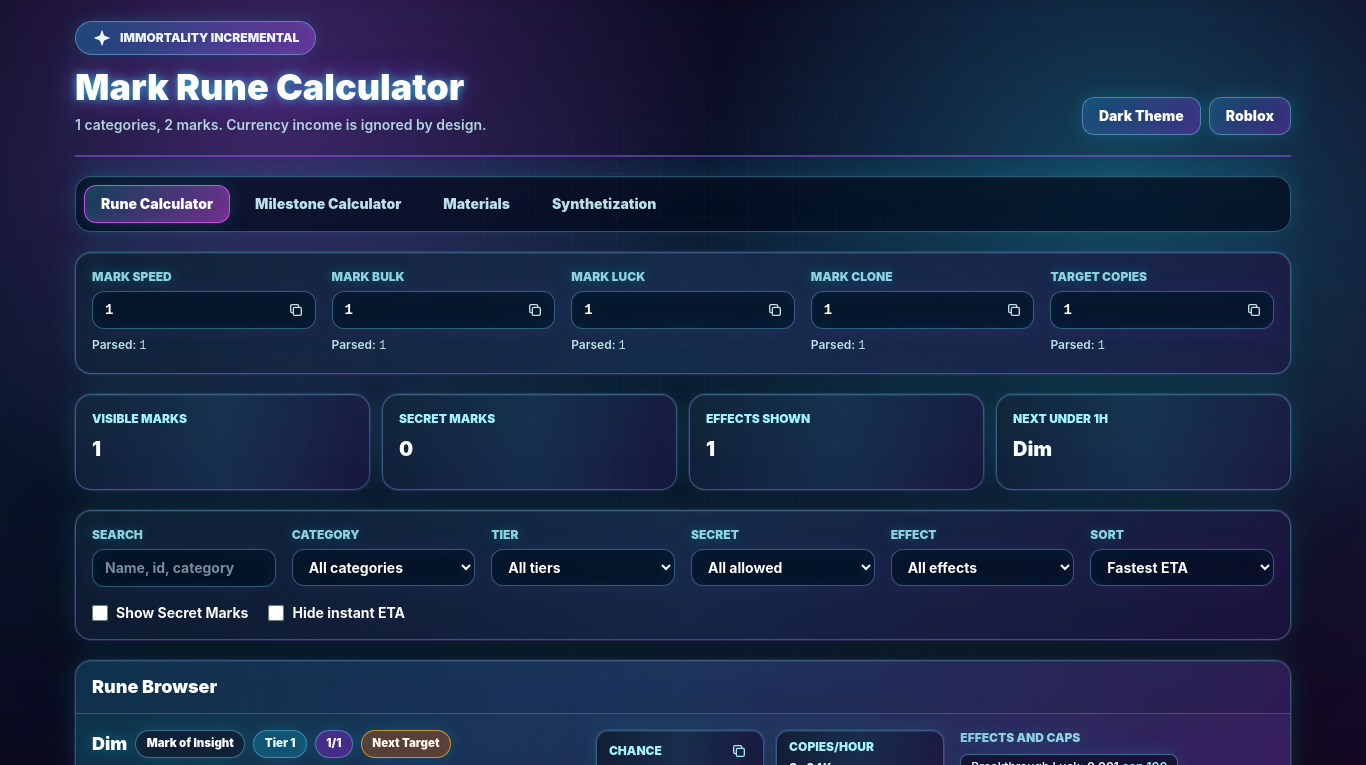
Test case: RuneCalculatorPanel › filters marks by search text
This screenshot has width=1366, height=765.
Check: the text "Dim" is shown, box [1013,437,1052,461]
Type "revenge" into the search field labelled "Search" at (184, 568), box [92,549,276,587]
(page scrolled)
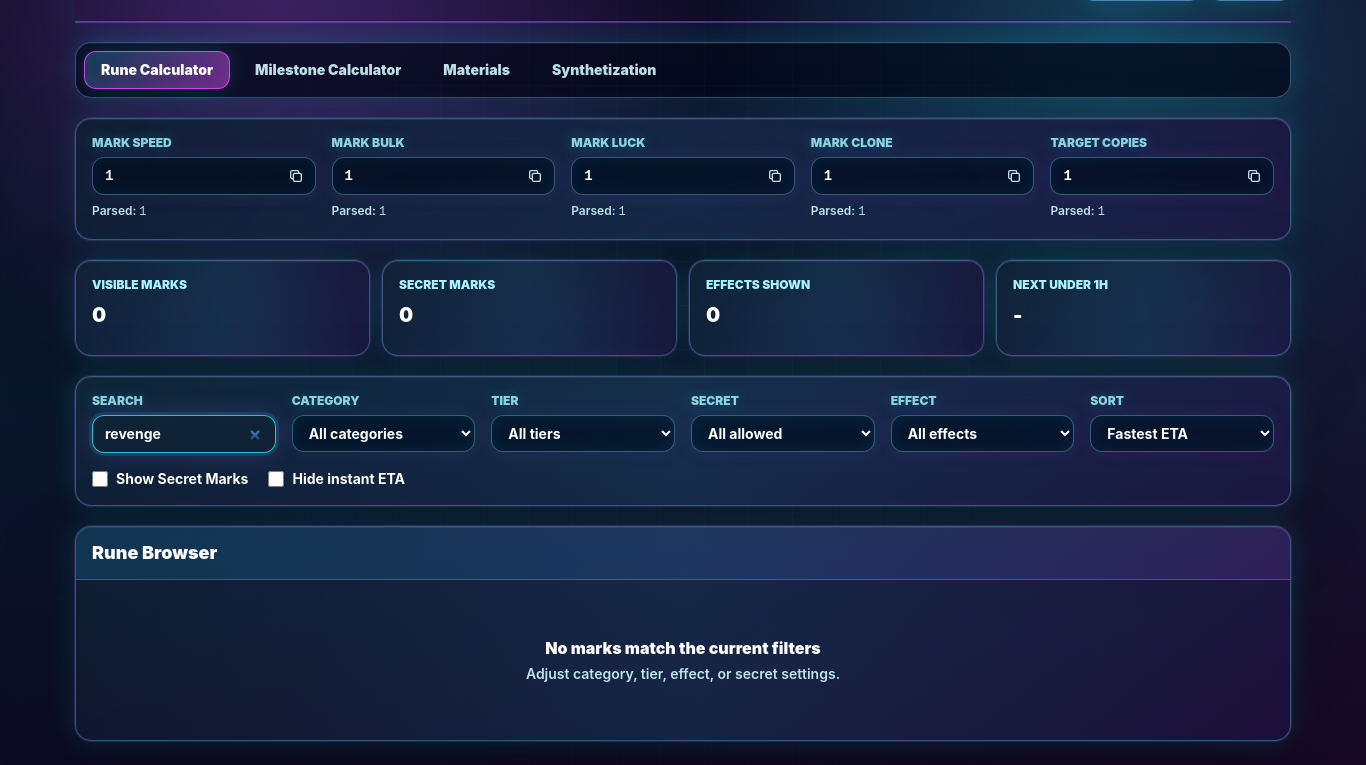
Check: the text "Dim" is gone
Check: the heading "No marks match the current filters" is shown, box [545,638,821,658]
